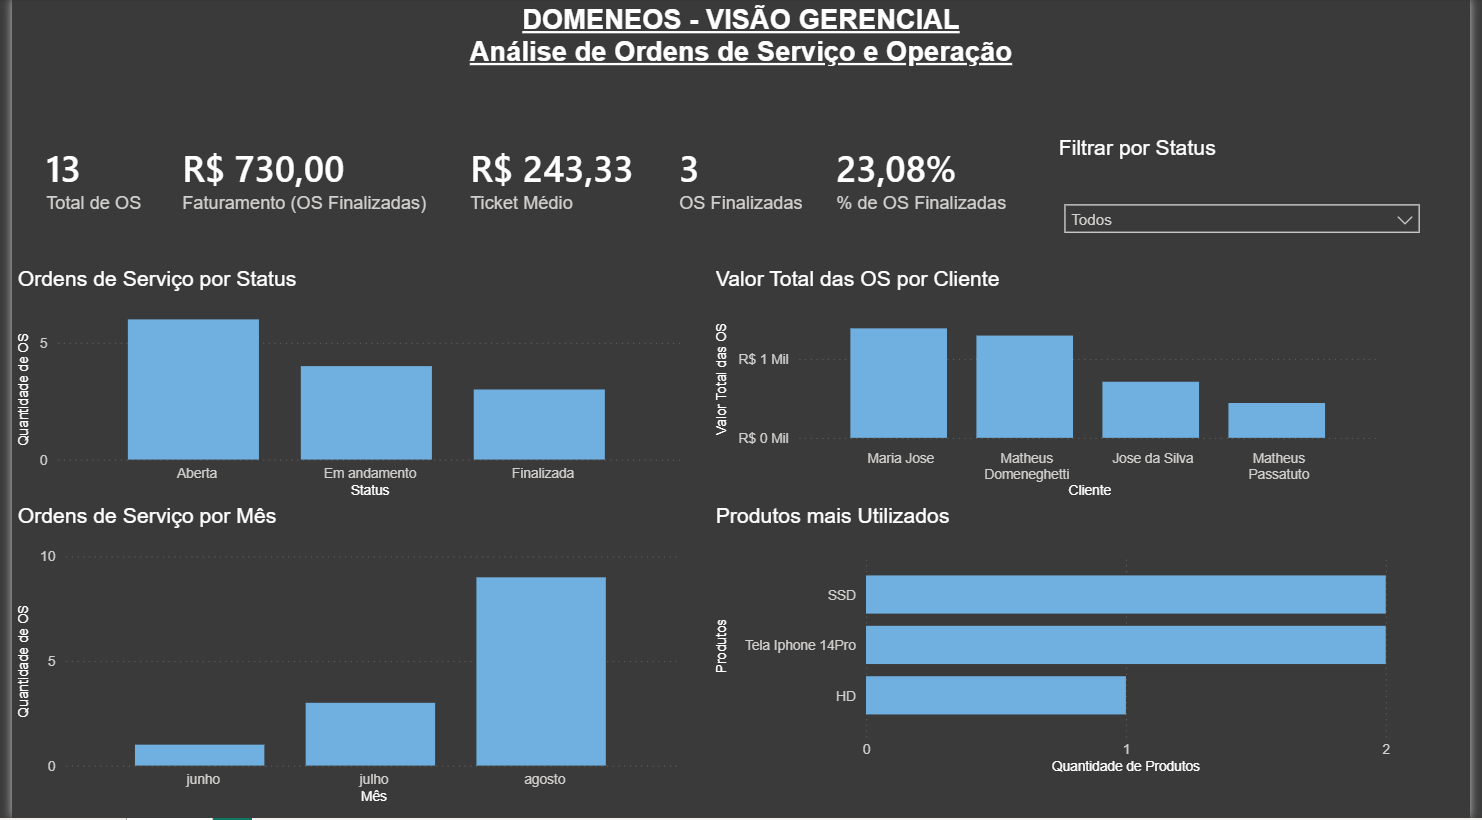

The page's visual inventory and layout, read from the dashboard file:
{"tool":"powerbi","page":{"name":"Página 1","canvas":[1280,720],"ordinal":0},"visuals":[{"type":"cardVisual","fields":{"Data":["CountNonNull(OrdensServico.Id)"]},"box":[0,106.2,220.4,101.9],"z":0},{"type":"cardVisual","fields":{"Data":["OrdensServico.Faturamento"]},"box":[220.4,106.2,231.8,101.9],"z":1000},{"type":"cardVisual","fields":{"Data":["OrdensServico.Média"]},"box":[452.2,106.2,240.6,101.9],"z":2000},{"type":"cardVisual","fields":{"Data":["OrdensServico.OS Finalizadas"]},"box":[686.6,106.2,196.7,101.9],"z":3000},{"type":"lineClusteredColumnComboChart","title":"Ordens de Serviço por Status","fields":{"Category":["OrdensServico.StatusDescricao"],"Y":["CountNonNull(OrdensServico.Id)"]},"box":[0,236.2,592.7,208.1],"z":4000},{"type":"lineClusteredColumnComboChart","fields":{"Category":["Clientes.Nome"],"Y":["Sum(OrdensServico.Valor)"]},"box":[612.9,236.2,593,208],"z":5000},{"type":"lineClusteredColumnComboChart","title":"Ordens de Serviço por Mês","fields":{"Category":["OrdensServico.DataAbertura.Variation.Hierarquia de datas.Mês"],"Y":["CountNonNull(OrdensServico.Id)"]},"box":[0,444.3,592.7,268.7],"z":6000},{"type":"clusteredBarChart","title":"Produtos mais Utilizados","fields":{"Category":["Produtos.Nome"],"Y":["Sum(OrdemServicoProdutos.Quantidade)"]},"box":[612.9,444.3,602.3,242.3],"z":7000},{"type":"textbox","box":[0,0,1280.2,121.2],"z":8000},{"type":"slicer","title":"Filtrar por Status","fields":{"Values":["OrdensServico.StatusDescricao"]},"box":[883.3,121.2,331.9,86.9],"z":9000}]}

Visuals, with their boxes in screenshot pixels (x1, y1, x2, y2), scaled from the page's 1280x720 canvas onto the 1482x820 screenshot:
cardVisual - CountNonNull(OrdensServico.Id): bbox(0, 121, 255, 237)
cardVisual - OrdensServico.Faturamento: bbox(255, 121, 524, 237)
cardVisual - OrdensServico.Média: bbox(524, 121, 802, 237)
cardVisual - OrdensServico.OS Finalizadas: bbox(795, 121, 1023, 237)
"Ordens de Serviço por Status" lineClusteredColumnComboChart: bbox(0, 269, 686, 506)
lineClusteredColumnComboChart - Clientes.Nome x Sum(OrdensServico.Valor): bbox(710, 269, 1396, 506)
"Ordens de Serviço por Mês" lineClusteredColumnComboChart: bbox(0, 506, 686, 812)
"Produtos mais Utilizados" clusteredBarChart: bbox(710, 506, 1407, 782)
textbox: bbox(0, 0, 1481, 138)
"Filtrar por Status" slicer: bbox(1023, 138, 1407, 237)
